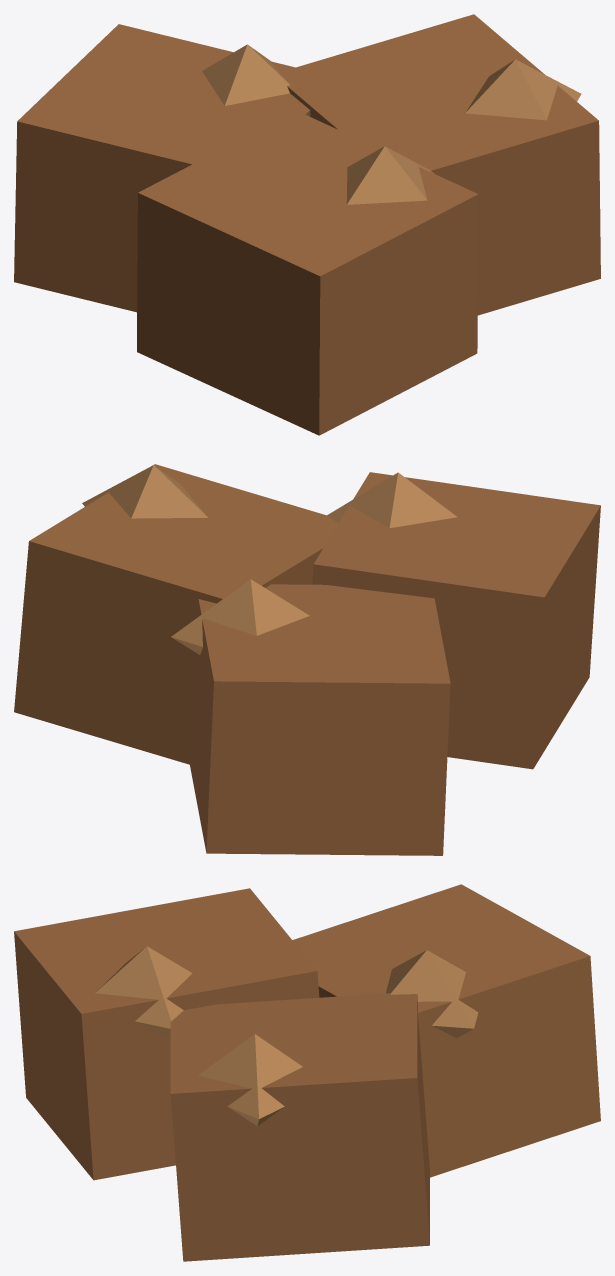
File: pile-soil-3.gltf
3 views of the same model, one above another, from view 1: azimuth 30°, elevation 25°; view 2: azimuth 150°, elevation 25°; view 3: azimuth 270°, elevation 25° (orthographic). The views are drawn at different scales.
Parts seen in each view (by area): view 1: pile-soil-3; view 2: pile-soil-3; view 3: pile-soil-3.
Boxes of the visible parts, x1,y1,x2,y2 form: pile-soil-3: [14, 14, 600, 435]; pile-soil-3: [14, 464, 600, 855]; pile-soil-3: [14, 884, 600, 1261].
Size of the model in its own units: 0.6436 by 0.2874 by 0.7118.
